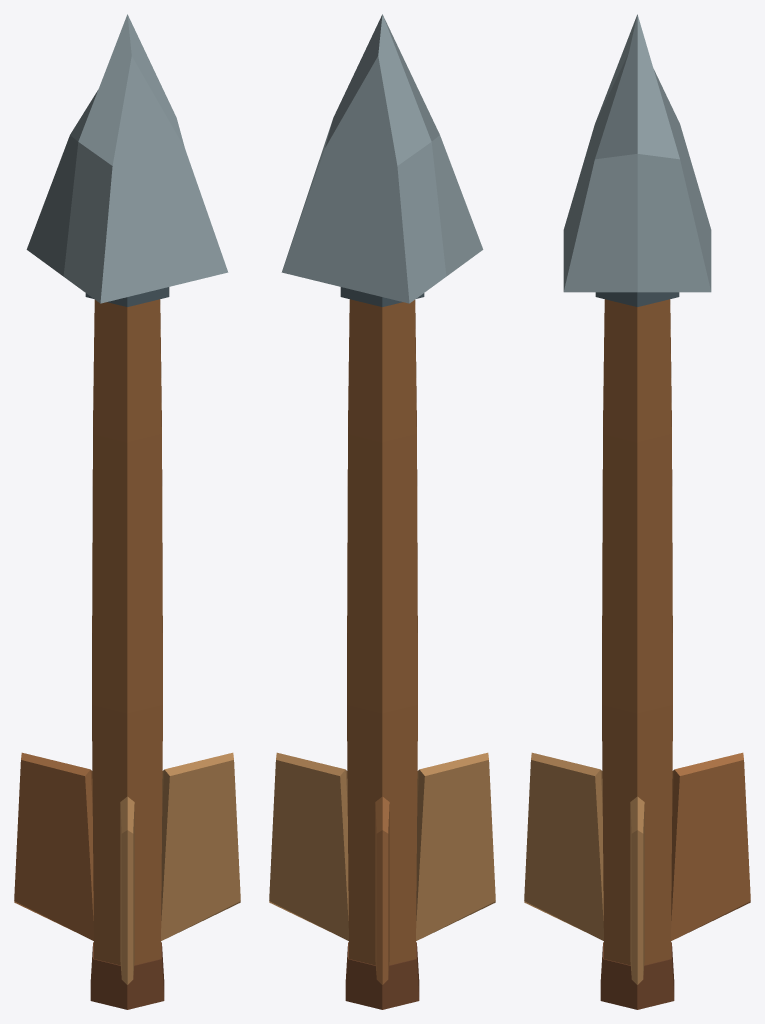
Rendered from bolt_world.glb.
3 renders of one model, left to right at view 1: azimuth 30°, elevation 25°; view 2: azimuth 150°, elevation 25°; view 3: azimuth 270°, elevation 25°, orthographic.
Parts seen in each view (by area): view 1: Bolt_Shaft, Bolt_Head, Bolt_Vane_1, Bolt_Vane_2, Bolt_Butt, Bolt_Vane_3, Bolt_Socket; view 2: Bolt_Shaft, Bolt_Head, Bolt_Vane_3, Bolt_Vane_1, Bolt_Butt, Bolt_Vane_2, Bolt_Socket; view 3: Bolt_Shaft, Bolt_Head, Bolt_Vane_2, Bolt_Vane_3, Bolt_Butt, Bolt_Vane_1, Bolt_Socket.
Boxes of the visible parts, x1=… form: Bolt_Shaft: x1=92, y1=299, x2=162, y2=965; Bolt_Head: x1=26, y1=14, x2=228, y2=303; Bolt_Vane_1: x1=161, y1=752, x2=240, y2=940; Bolt_Vane_2: x1=14, y1=752, x2=93, y2=940; Bolt_Butt: x1=90, y1=942, x2=164, y2=1009; Bolt_Vane_3: x1=120, y1=796, x2=134, y2=984; Bolt_Socket: x1=85, y1=287, x2=169, y2=306; Bolt_Shaft: x1=347, y1=299, x2=417, y2=965; Bolt_Head: x1=281, y1=14, x2=483, y2=303; Bolt_Vane_3: x1=416, y1=752, x2=495, y2=940; Bolt_Vane_1: x1=269, y1=752, x2=348, y2=940; Bolt_Butt: x1=345, y1=942, x2=419, y2=1009; Bolt_Vane_2: x1=375, y1=796, x2=389, y2=984; Bolt_Socket: x1=340, y1=287, x2=424, y2=306; Bolt_Shaft: x1=602, y1=299, x2=672, y2=965; Bolt_Head: x1=563, y1=14, x2=711, y2=292; Bolt_Vane_2: x1=671, y1=752, x2=750, y2=940; Bolt_Vane_3: x1=524, y1=752, x2=603, y2=940; Bolt_Butt: x1=600, y1=942, x2=674, y2=1009; Bolt_Vane_1: x1=630, y1=796, x2=644, y2=984; Bolt_Socket: x1=595, y1=292, x2=679, y2=306.
Bounding box in the file's own units: 0.144 × 0.76 × 0.1597.
